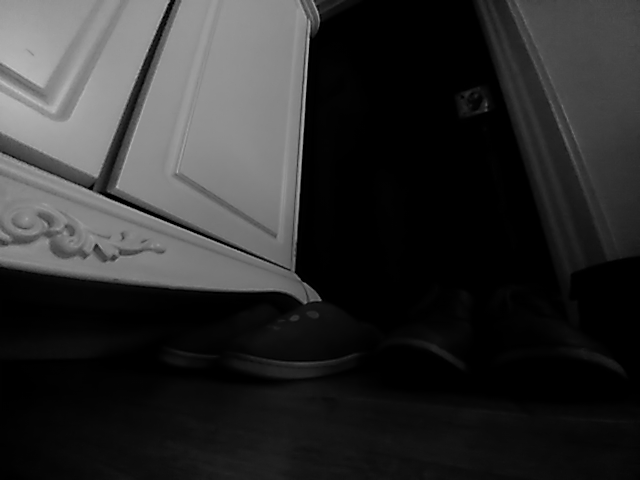shoe: (228, 298, 368, 381), (372, 301, 474, 393)
